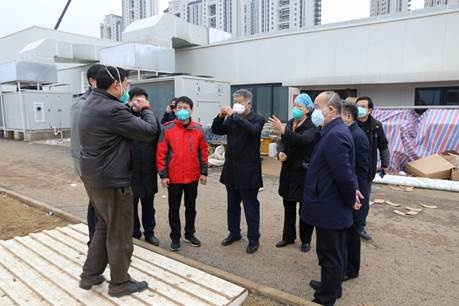correctlyWear: (311, 101, 335, 128), (110, 76, 130, 104), (290, 101, 313, 121), (232, 96, 251, 115), (354, 101, 372, 120), (174, 103, 191, 122)
